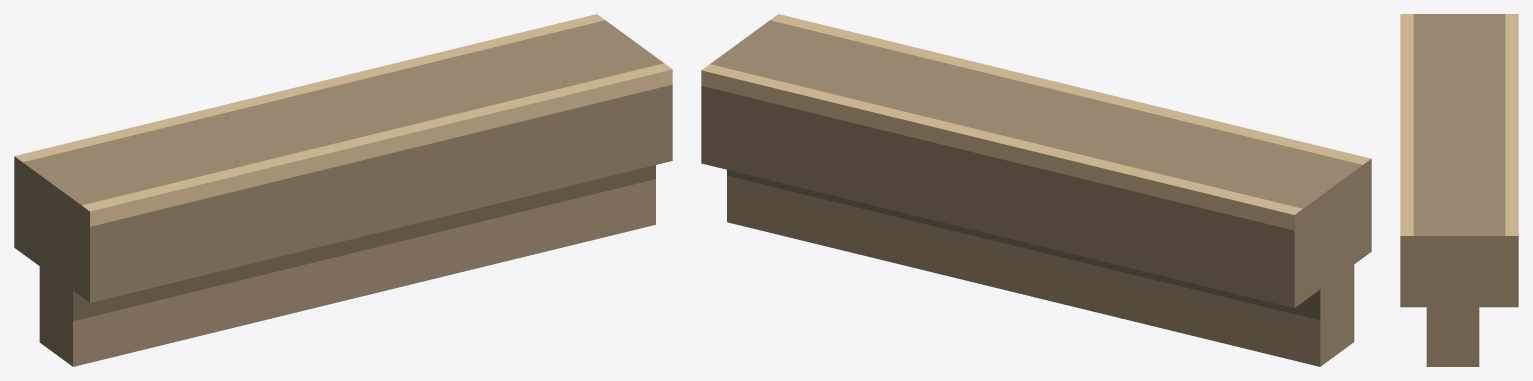
File: DeskTop.fbx
3 renders of one model, left to right at view 1: azimuth 30°, elevation 25°; view 2: azimuth 150°, elevation 25°; view 3: azimuth 270°, elevation 25°, orthographic. The views are drawn at different scales.
Visible parts, largest first — view 1: Cube.014; view 2: Cube.014; view 3: Cube.014.
Part boxes in pixels (bbox=[...]): Cube.014: bbox=[14, 14, 672, 366]; Cube.014: bbox=[701, 14, 1371, 366]; Cube.014: bbox=[1400, 14, 1518, 366].
Bounding box in the file's own units: 400 × 110 × 90.
